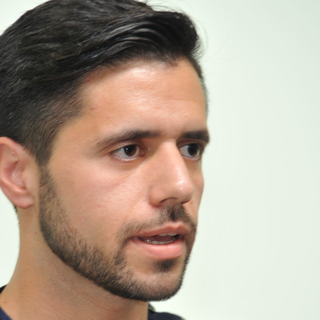eye: (106, 141, 147, 162), (177, 141, 205, 161)
